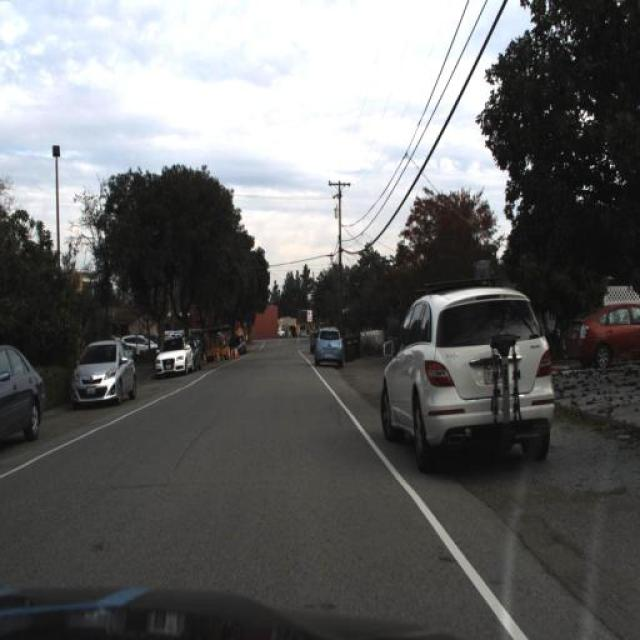car: (375, 262, 561, 478), (66, 337, 140, 412), (564, 301, 640, 368), (0, 341, 44, 450), (68, 342, 143, 403), (152, 335, 198, 375), (311, 324, 347, 364), (152, 336, 186, 374), (189, 332, 206, 368)
